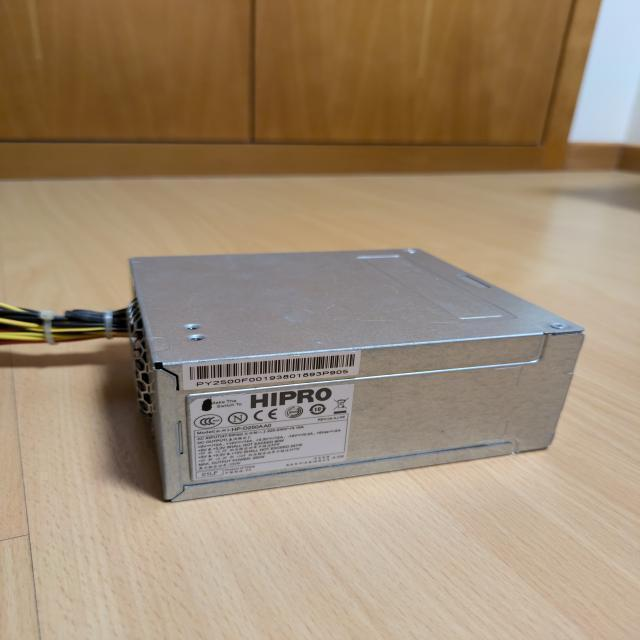PSU: (128, 247, 586, 502)
